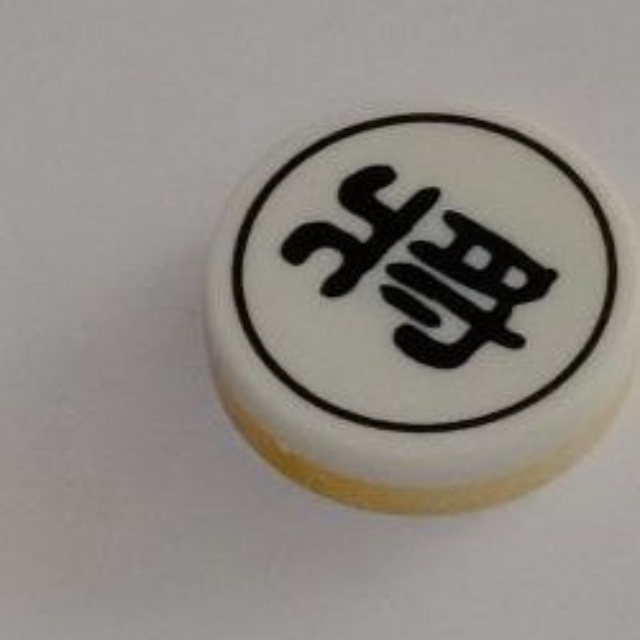black_tuong: (192, 90, 640, 515)
